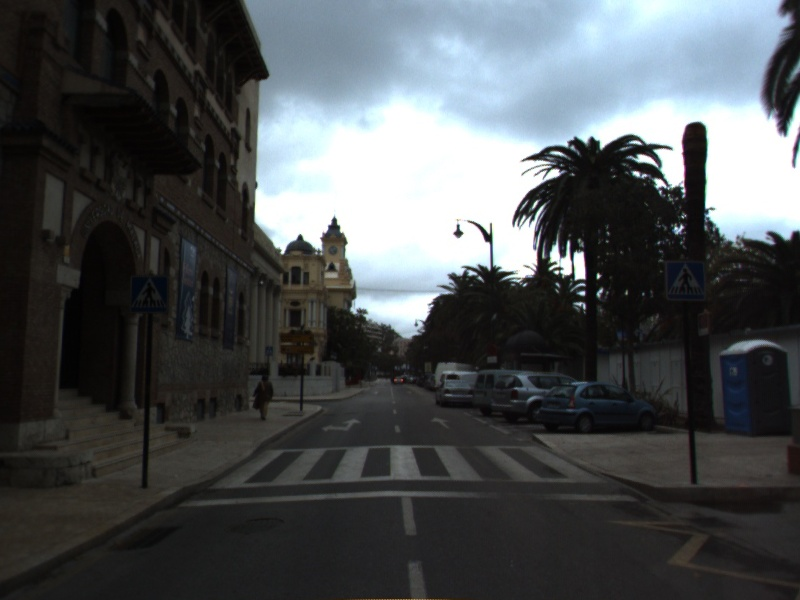STRAIGHT: (428, 415, 453, 431)
STRAIGHT_LEFT: (319, 416, 363, 434)
